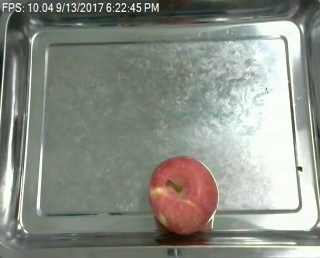Apple: (147, 153, 218, 237)
